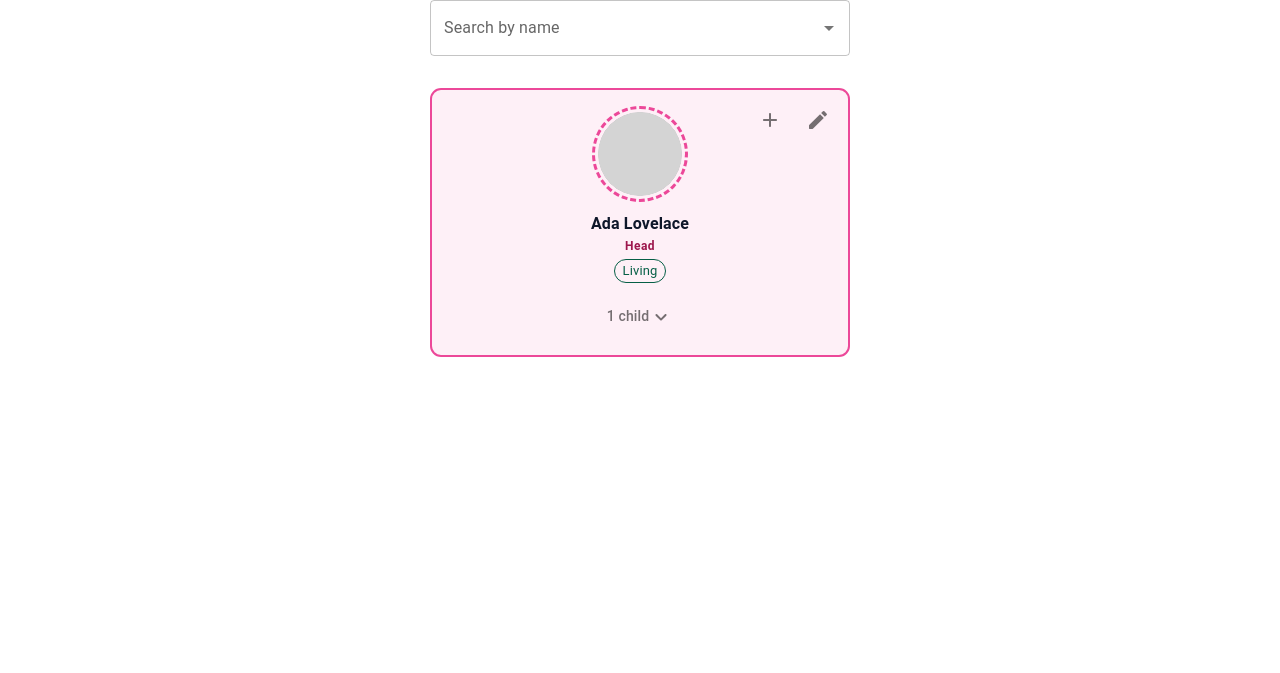
Test: DetailPage › admin: successful add-child to the HEAD when children are collapsed auto-expands to reveal the new child (D-05)
The image size is (1280, 673).
Check: the element with test id "person-card-1" is shown, box [430,88,850,357]
Step 1. Click the button named "Add relative to Ada Lovelace" → [770, 120], box [748,98,792,142]
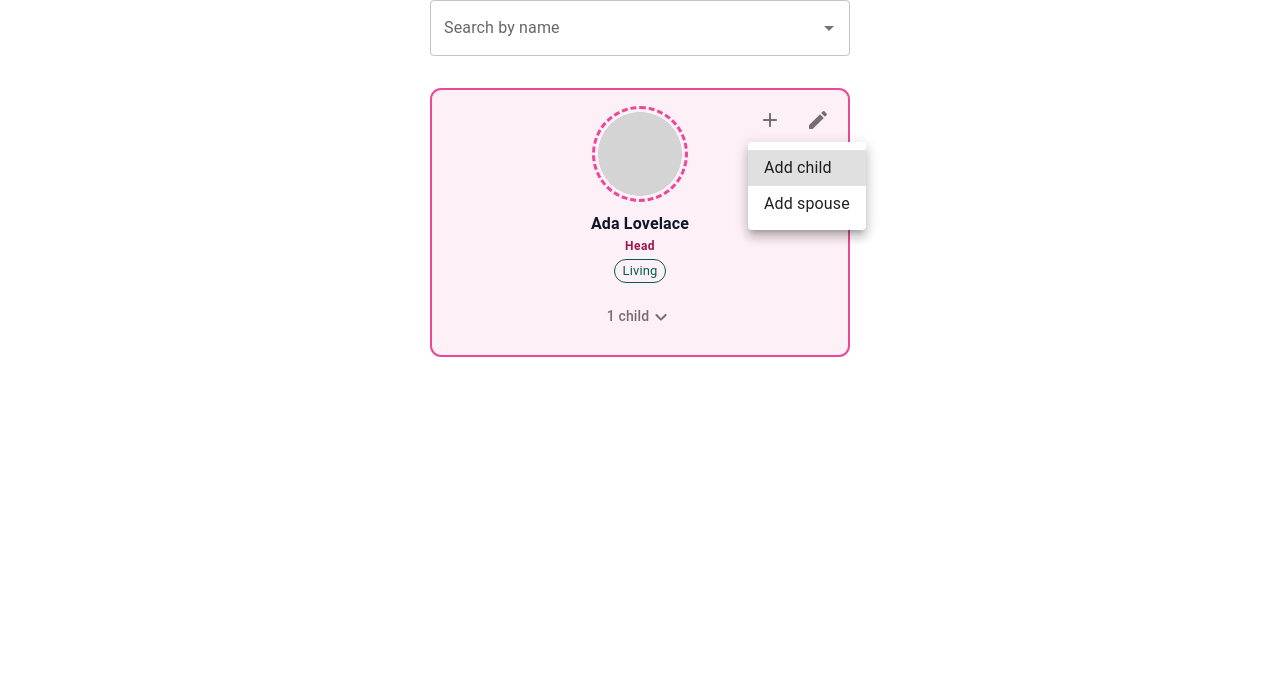
Step 2. Click the menu item "Add child" → [807, 168], box [748,150,866,186]
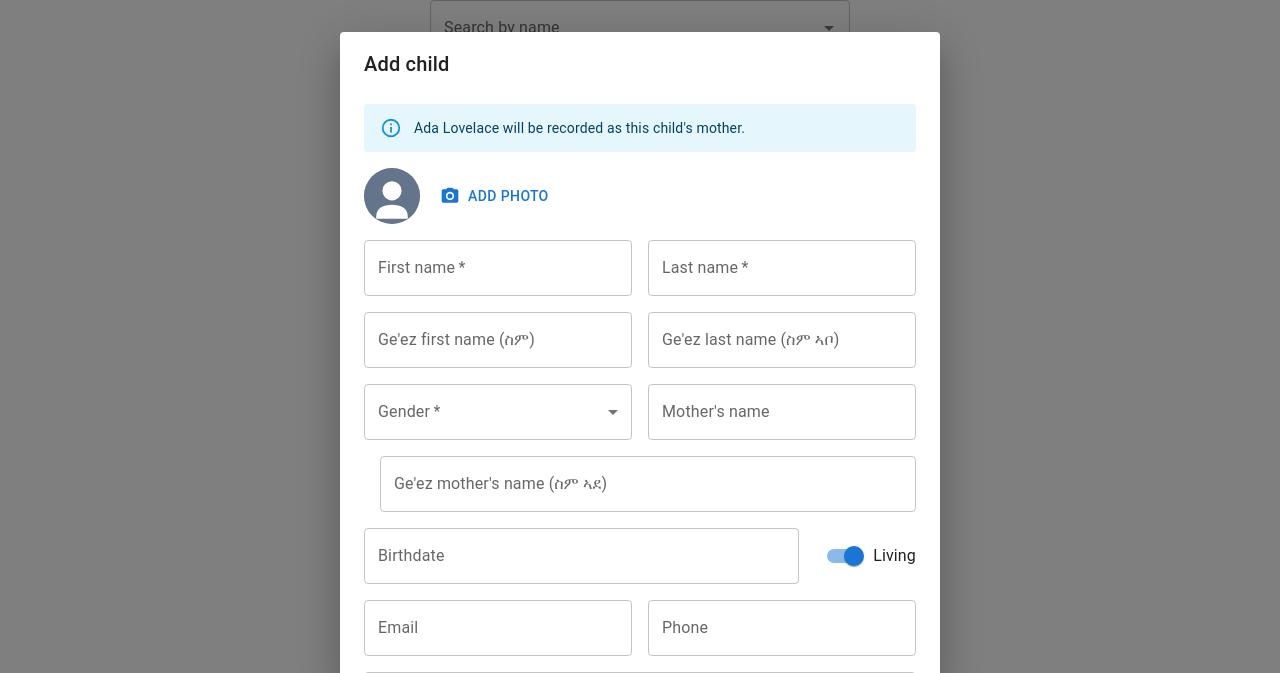
Check: the heading "Add child" is shown, box [364,52,449,76]
Step 3. Type "New" into the field labelled "First name *" → [498, 268], box [364,240,632,296]
Step 4. Type "Kid" into the field labelled "Last name *" → [782, 268], box [648,240,916,296]
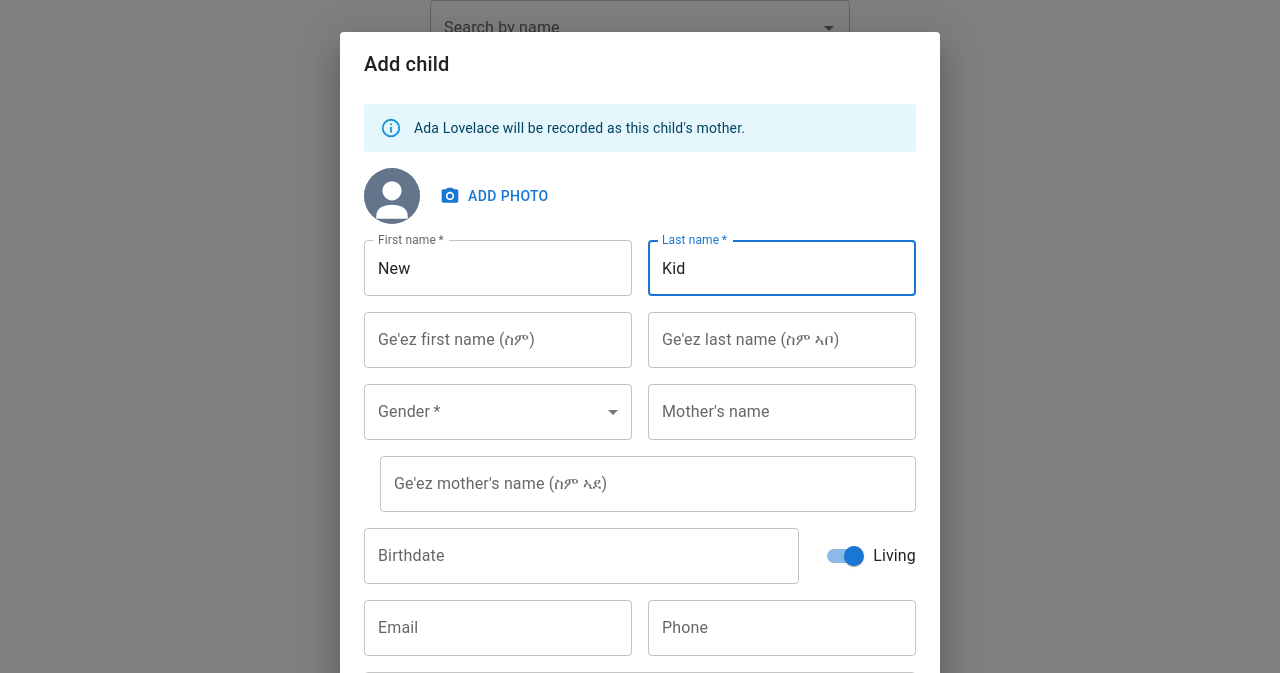
Step 5. Click the dropdown named "Gender" → [498, 412], box [364,384,632,440]
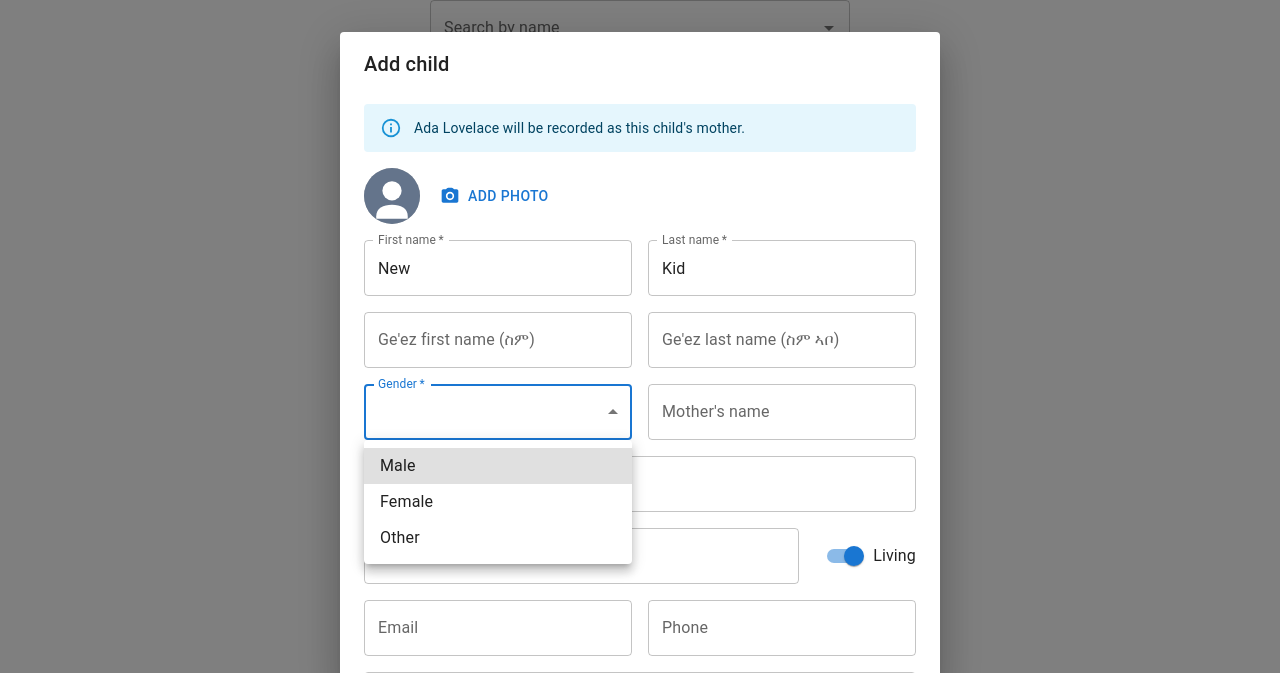
Step 6. Click the option "Male" → [398, 466], box [364,448,632,484]
(page scrolled)
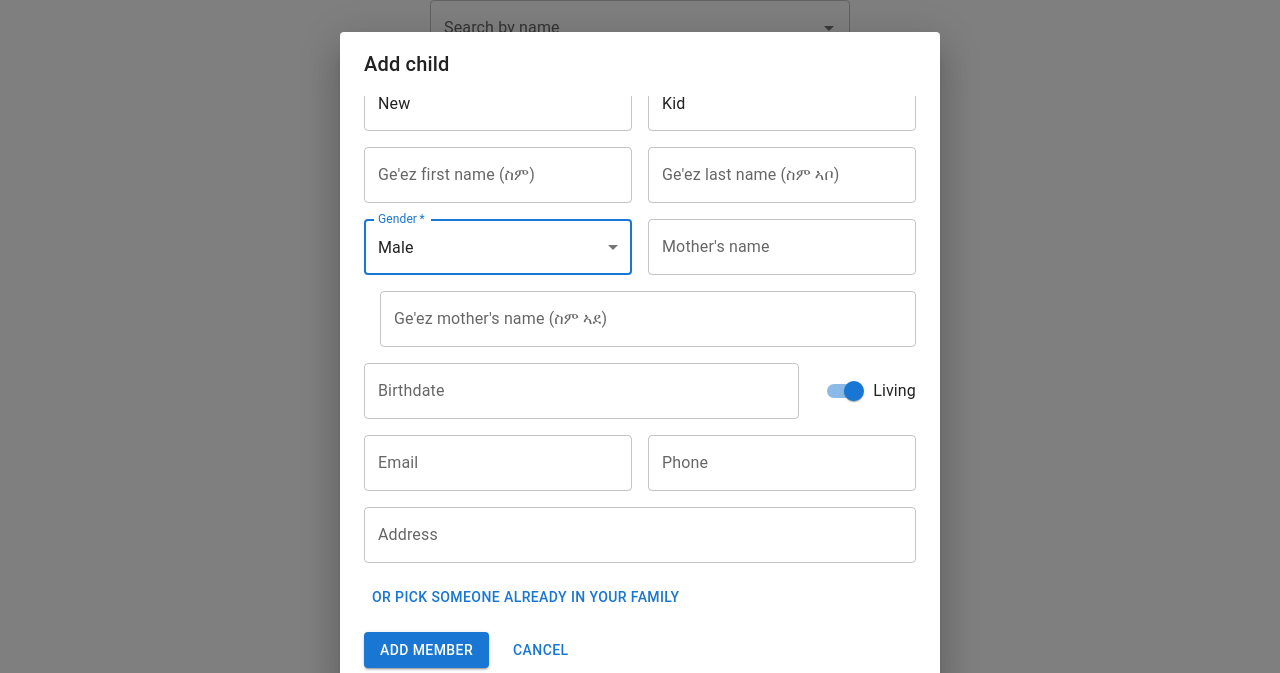
Step 7. Click the button "Add member" → [426, 650], box [364,632,489,668]
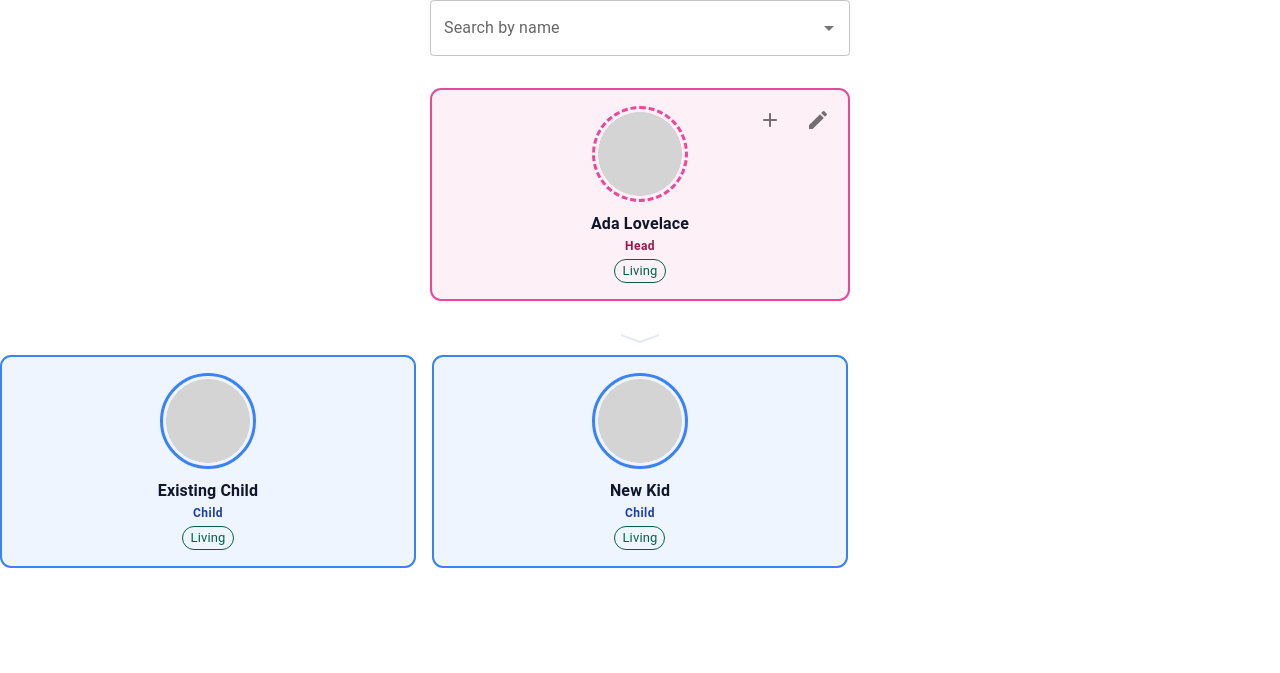
Check: the element with test id "person-card-20" is shown, box [432,355,848,568]
Check: the text "New Kid" is shown, box [610,481,670,501]
